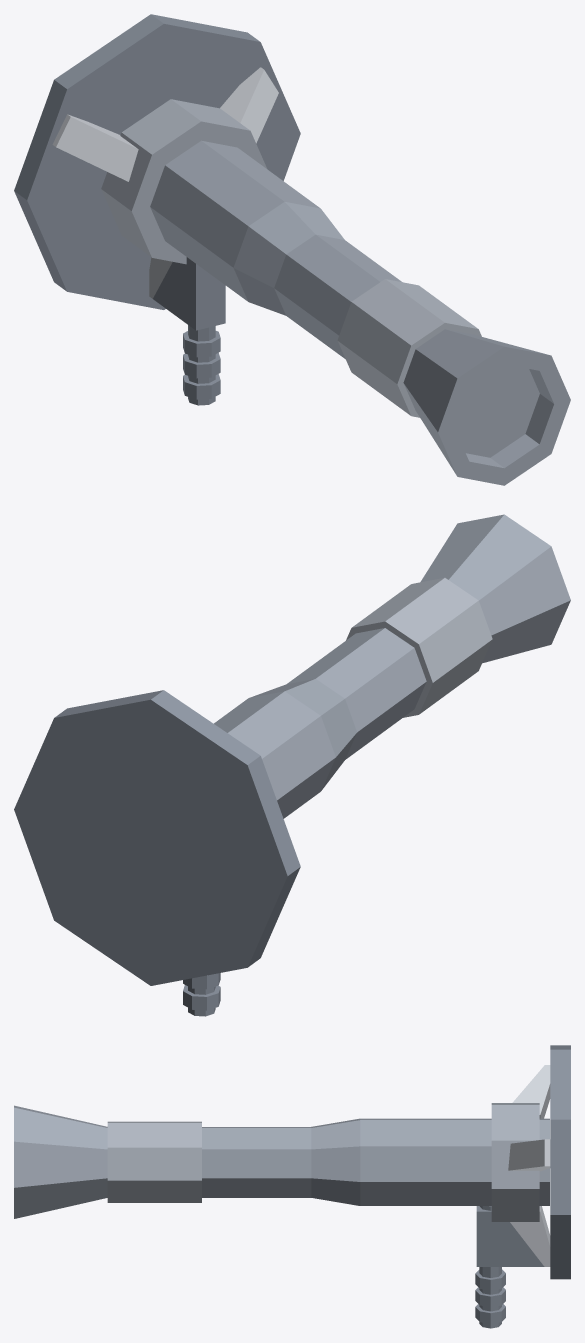
File: heating_equipment_bunsen_burner.obj
The picture shows the model from 3 angles, top to bottom: view 1: azimuth 30°, elevation 25°; view 2: azimuth 150°, elevation 25°; view 3: azimuth 270°, elevation 25°; orthographic projection. The views are drawn at different scales.
Visible parts, largest first — view 1: Cylinder.583; view 2: Cylinder.583; view 3: Cylinder.583.
Part boxes in pixels (x1,y1,x2,y2): Cylinder.583: (14,14,570,485); Cylinder.583: (14,514,570,1016); Cylinder.583: (14,1045,570,1328).
Bounding box in the file's own units: 0.1171 × 0.1423 × 0.262.
Materials: 1 (1 with a texture image).
